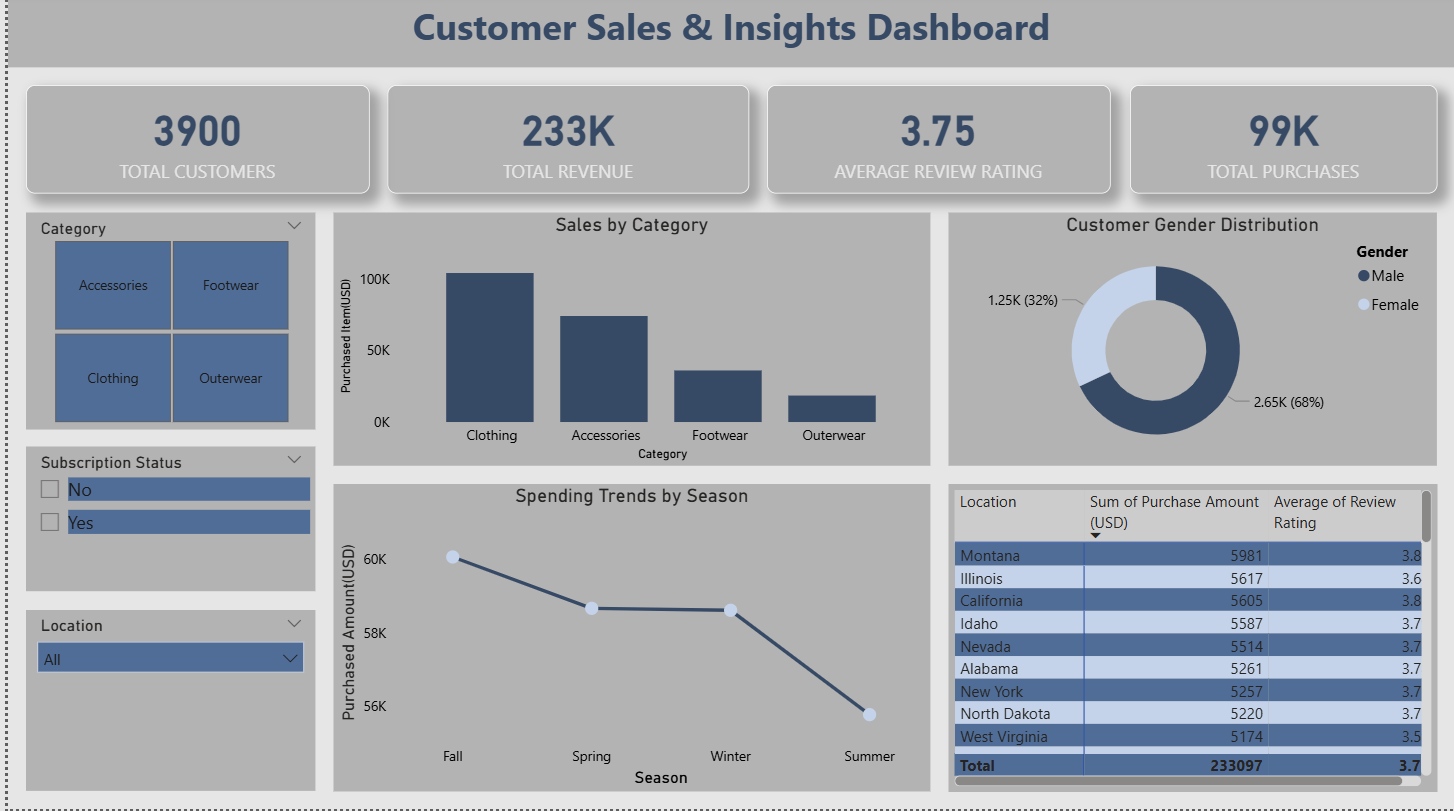

What the dashboard file says about the page in this screenshot:
{"tool":"powerbi","page":{"name":"Page 1","canvas":[1280,720],"ordinal":0},"visuals":[{"type":"card","fields":{"Values":["Sum(Cleaned_Customer_Data.Purchase Amount (USD))"]},"box":[336,80,320,96],"z":0},{"type":"card","fields":{"Values":["Count(Cleaned_Customer_Data.Customer ID)"]},"box":[16,80,304,96],"z":1000},{"type":"card","fields":{"Values":["Avg(Cleaned_Customer_Data.Review Rating)"]},"box":[672,80,304,96],"z":2000},{"type":"slicer","fields":{"Values":["Cleaned_Customer_Data.Subscription Status"]},"box":[16,400,256,128],"z":3000},{"type":"slicer","fields":{"Values":["Cleaned_Customer_Data.Location"]},"box":[16,544,256,160],"z":4000},{"type":"textbox","box":[0,0,1280,64],"z":5000},{"type":"card","fields":{"Values":["Sum(Cleaned_Customer_Data.Previous Purchases)"]},"box":[992,80,272,96],"z":6000},{"type":"slicer","fields":{"Values":["Cleaned_Customer_Data.Category"]},"box":[16,192,256,192],"z":7000},{"type":"clusteredColumnChart","title":"Sales by Category","fields":{"Category":["Cleaned_Customer_Data.Category"],"Y":["Sum(Cleaned_Customer_Data.Purchase Amount (USD))"]},"box":[288,192,528,224],"z":8000},{"type":"donutChart","title":"Customer Gender Distribution","fields":{"Category":["Cleaned_Customer_Data.Gender"],"Y":["Count(Cleaned_Customer_Data.Customer ID)"]},"box":[832,192,432,224],"z":9000},{"type":"lineChart","title":"Spending Trends by Season","fields":{"Category":["Cleaned_Customer_Data.Season"],"Y":["Sum(Cleaned_Customer_Data.Purchase Amount (USD))"]},"box":[288,432,528,272],"z":10000},{"type":"pivotTable","fields":{"Rows":["Cleaned_Customer_Data.Location"],"Values":["Sum(Cleaned_Customer_Data.Purchase Amount (USD))","Avg(Cleaned_Customer_Data.Review Rating)"]},"box":[832,432,432,272],"z":11000}]}

Visuals, with their boxes in screenshot pixels (x1, y1, x2, y2), scaled from the page's 1280x720 canvas onto the 1454x811 screenshot:
card - Sum(Cleaned_Customer_Data.Purchase Amount (USD)): <box>382,90,745,198</box>
card - Count(Cleaned_Customer_Data.Customer ID): <box>18,90,364,198</box>
card - Avg(Cleaned_Customer_Data.Review Rating): <box>763,90,1109,198</box>
slicer - Cleaned_Customer_Data.Subscription Status: <box>18,451,309,595</box>
slicer - Cleaned_Customer_Data.Location: <box>18,613,309,793</box>
textbox: <box>0,0,1453,72</box>
card - Sum(Cleaned_Customer_Data.Previous Purchases): <box>1127,90,1436,198</box>
slicer - Cleaned_Customer_Data.Category: <box>18,216,309,433</box>
"Sales by Category" clusteredColumnChart: <box>327,216,927,469</box>
"Customer Gender Distribution" donutChart: <box>945,216,1436,469</box>
"Spending Trends by Season" lineChart: <box>327,487,927,793</box>
pivotTable - Cleaned_Customer_Data.Location x Sum(Cleaned_Customer_Data.Purchase Amount (USD)): <box>945,487,1436,793</box>
